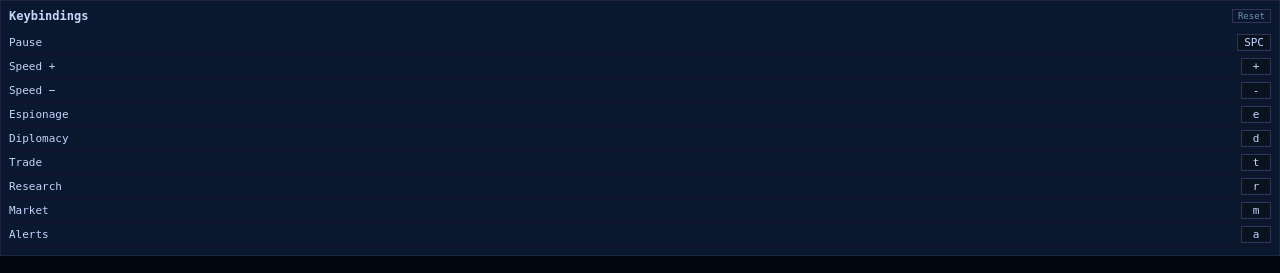
Test case: KeybindingsPanel › Escape cancels listening without changing the bind
The width and height of the screenshot is (1280, 273).
Click the button "SPC".
click(1254, 42)  # box [1237,34,1271,51]
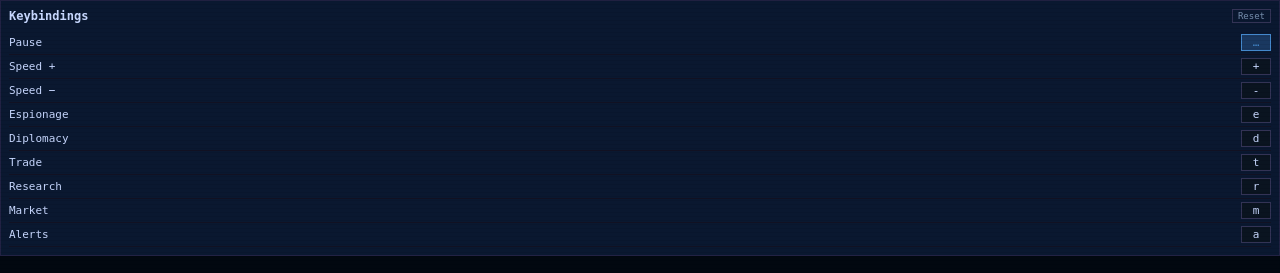
Now the button "…" is shown, box [1241,34,1271,51]
Press Escape
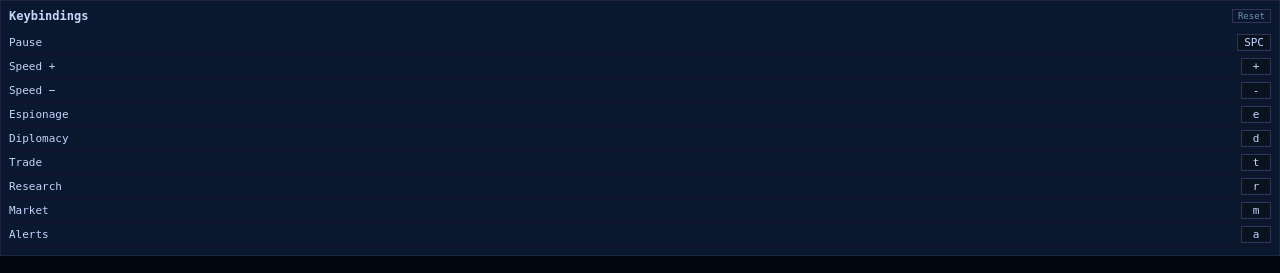
Now the button "…" is gone
